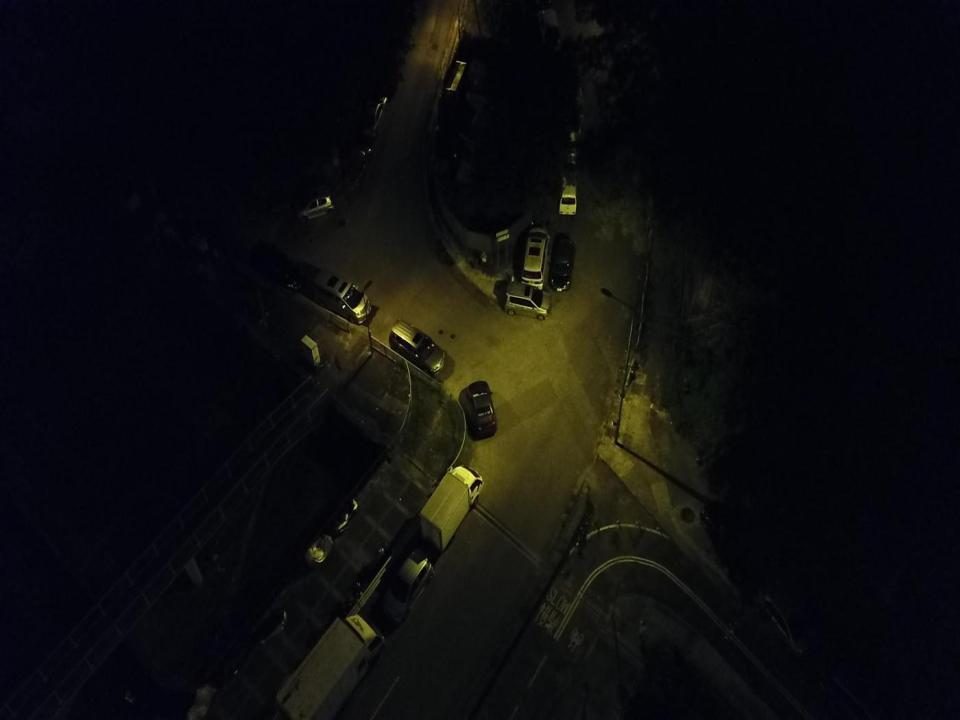car: (380, 546, 435, 624), (389, 317, 446, 378), (312, 268, 372, 325), (503, 280, 552, 322), (520, 226, 550, 290), (547, 229, 576, 292), (467, 380, 498, 437), (360, 92, 389, 142), (296, 188, 336, 224), (557, 168, 580, 218)
truck: (275, 614, 386, 719), (418, 462, 484, 551)
